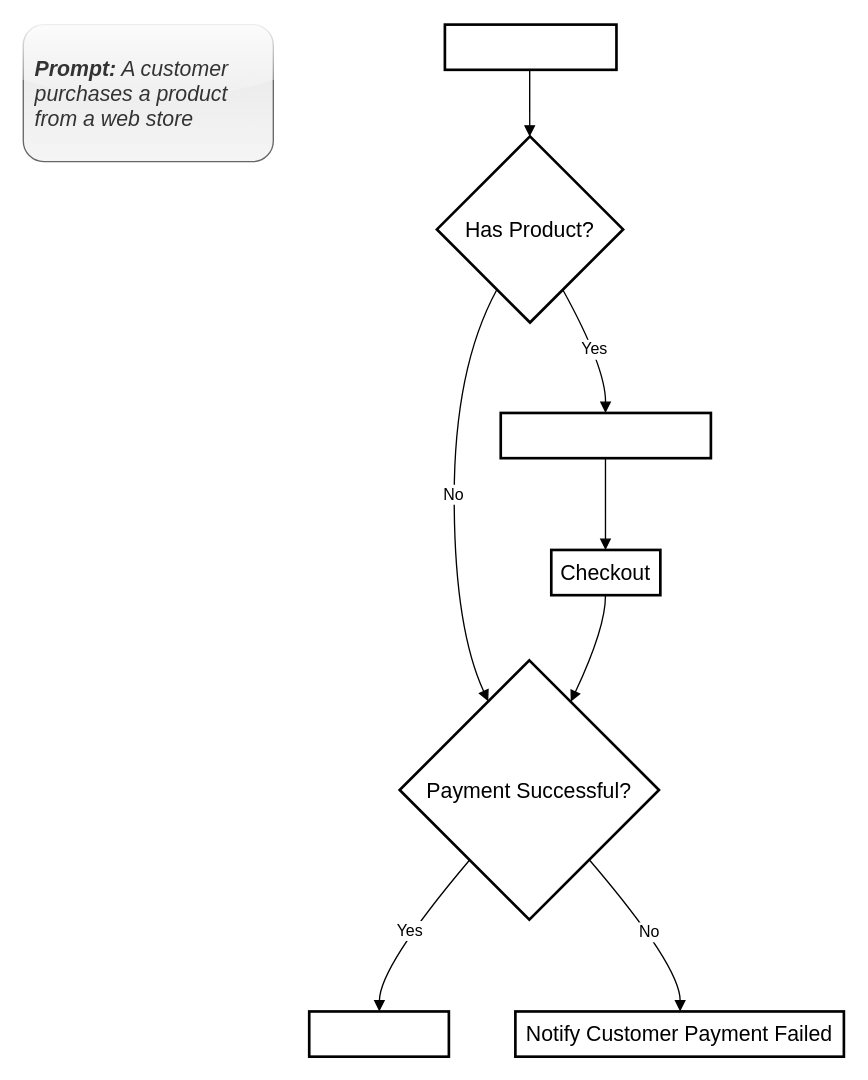
Some shapes in this 868 by 1080 pixel diagram are drawn without their labels. Each missing label, with the box of its shape:
Add Product to Cart: (499, 411, 712, 459)
Ship Product: (307, 1009, 450, 1057)
Start Web Store: (443, 23, 617, 70)
